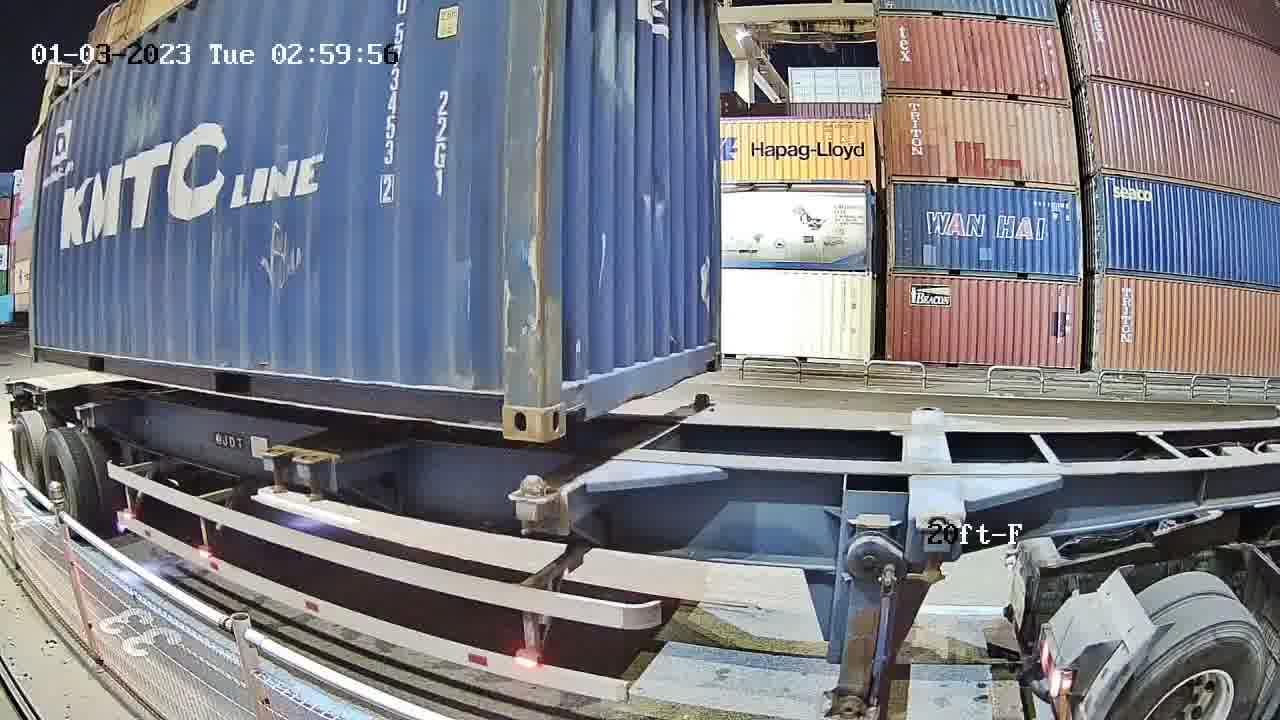Chassis: (506, 400, 718, 504)
Cone: (510, 475, 550, 532), (692, 392, 710, 409)
Hole_L: (538, 353, 599, 441)
Hole_R: (464, 362, 542, 440), (701, 335, 724, 373)
Tire: (44, 432, 83, 532), (15, 419, 41, 501)
